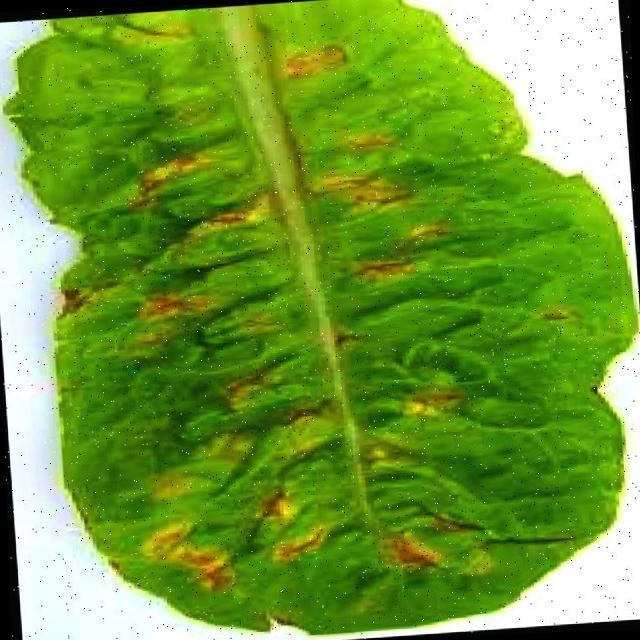Downy_Mildew: (158, 325, 484, 612)
